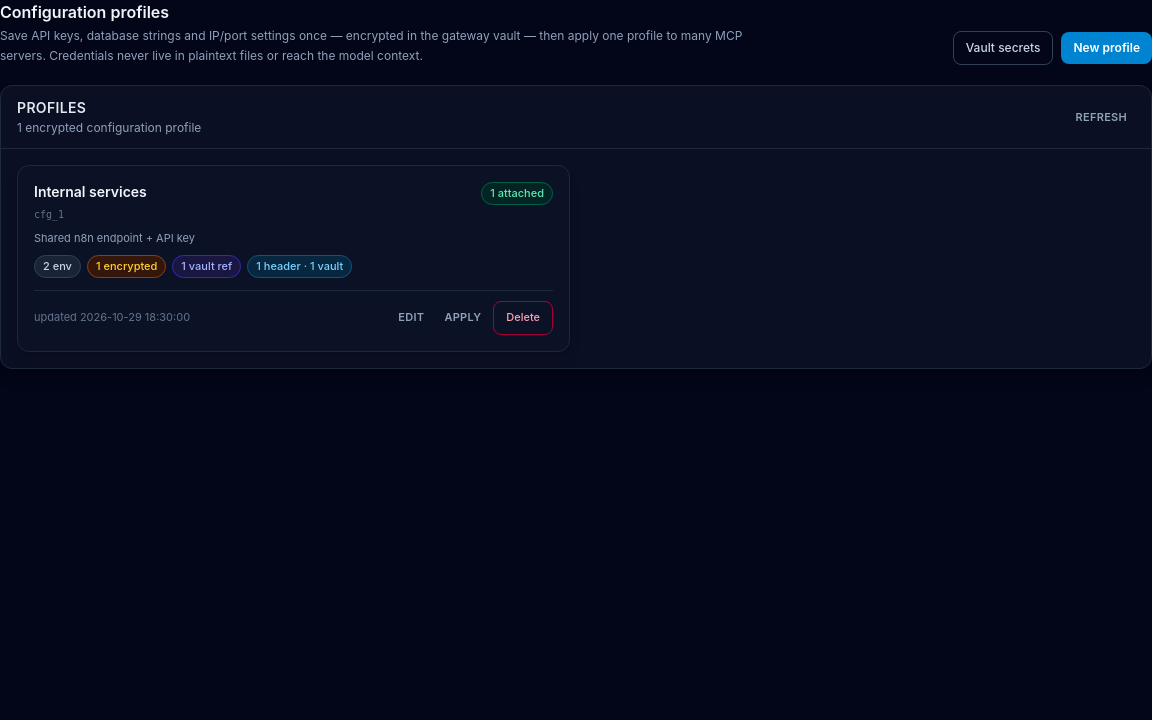
Configurations page › applies a profile to multiple selected servers with restart/test toggles
Expected: the text "Internal services" is shown, [34,182,147,202]
Click the button "Apply" at (463, 318), box [436,306,489,330]
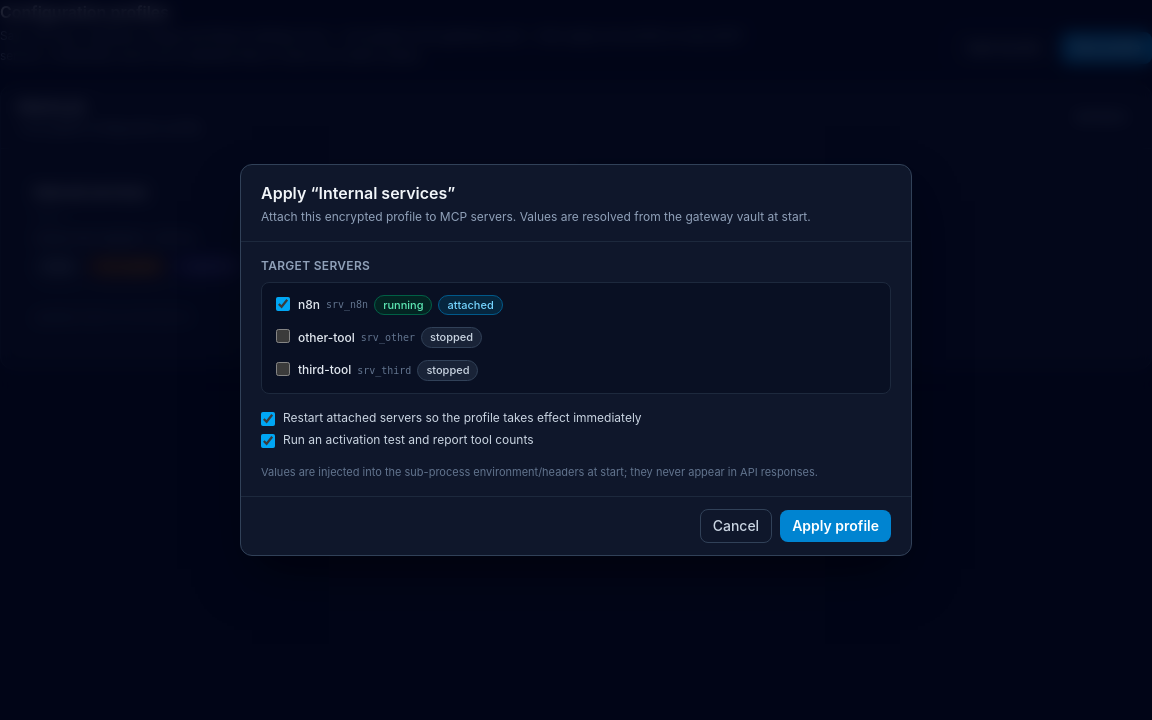
Result: the heading "Apply “Internal services”" is shown at [261,183,455,203]
Result: the checkbox labelled "n8n srv_n8n running attached" is checked at [276,297,290,311]
Click the checkbox labelled "other-tool srv_other stopped" at (283, 336), box [276,329,290,343]
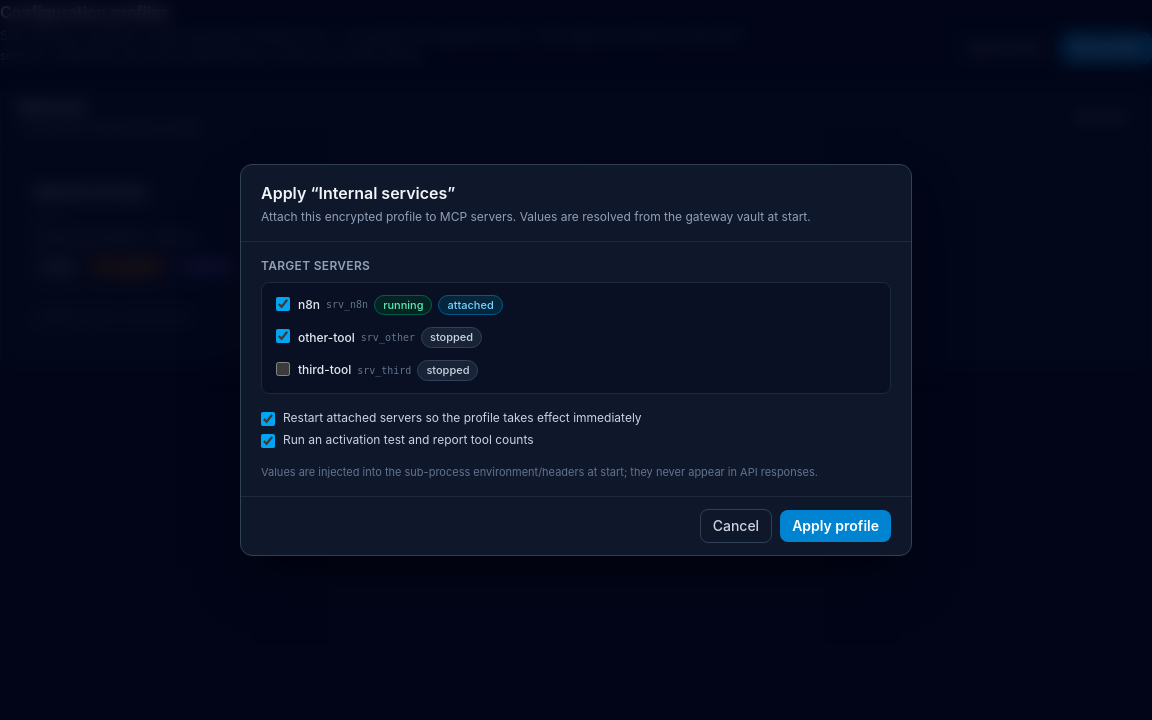
Click the button "Apply profile" at (836, 526), box [780,510,891,542]
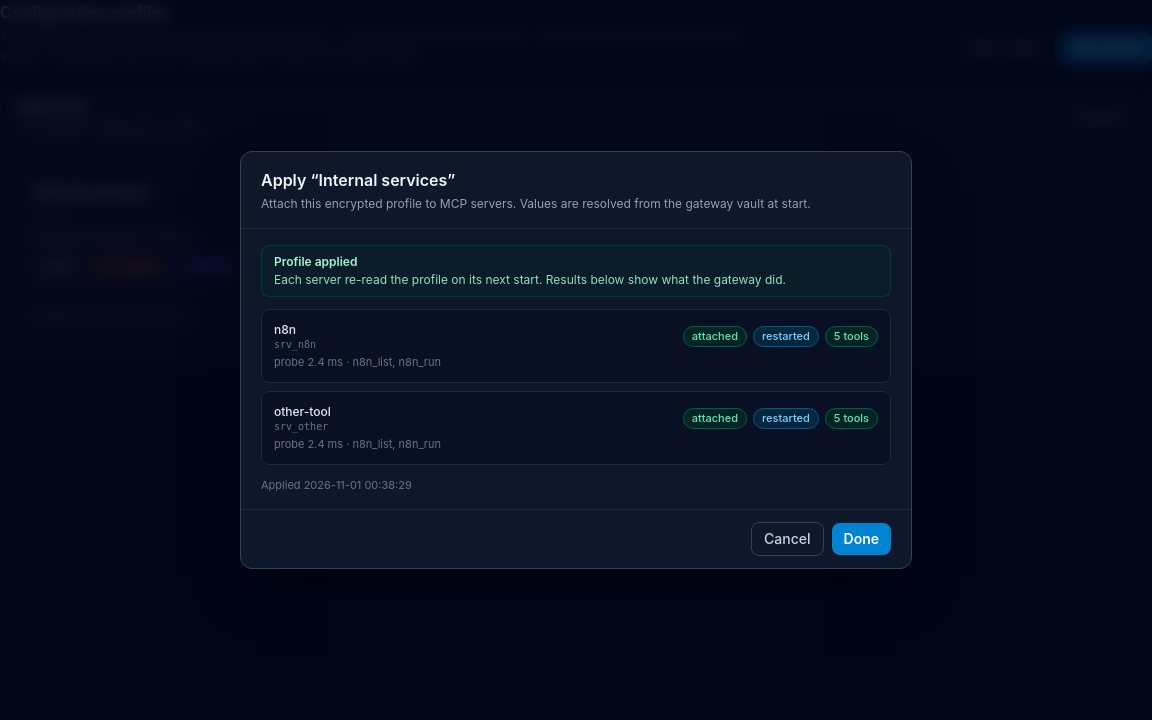
Result: the text "attached" in the row of "srv_n8n" is shown at [692,329,738,343]
Result: the text "Profile applied" is shown at [274,254,357,269]
Result: the text "5 tools" in the row of "srv_n8n" is shown at [834,329,869,343]
Click the button "Done" at (861, 539), box [832,523,891,555]
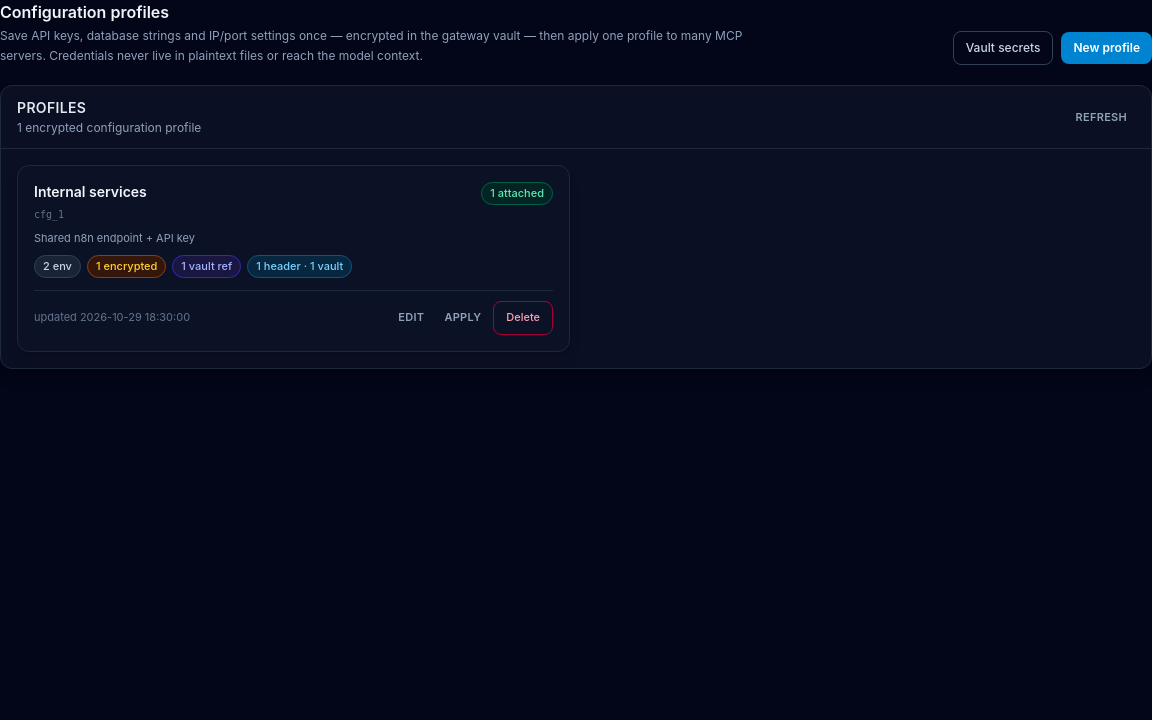
Result: the heading "Apply “Internal services”" is gone
